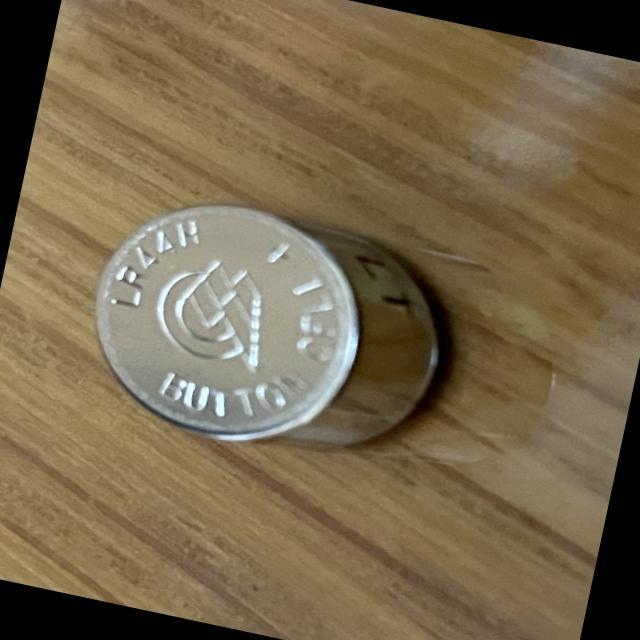COIN: (68, 178, 462, 482)
